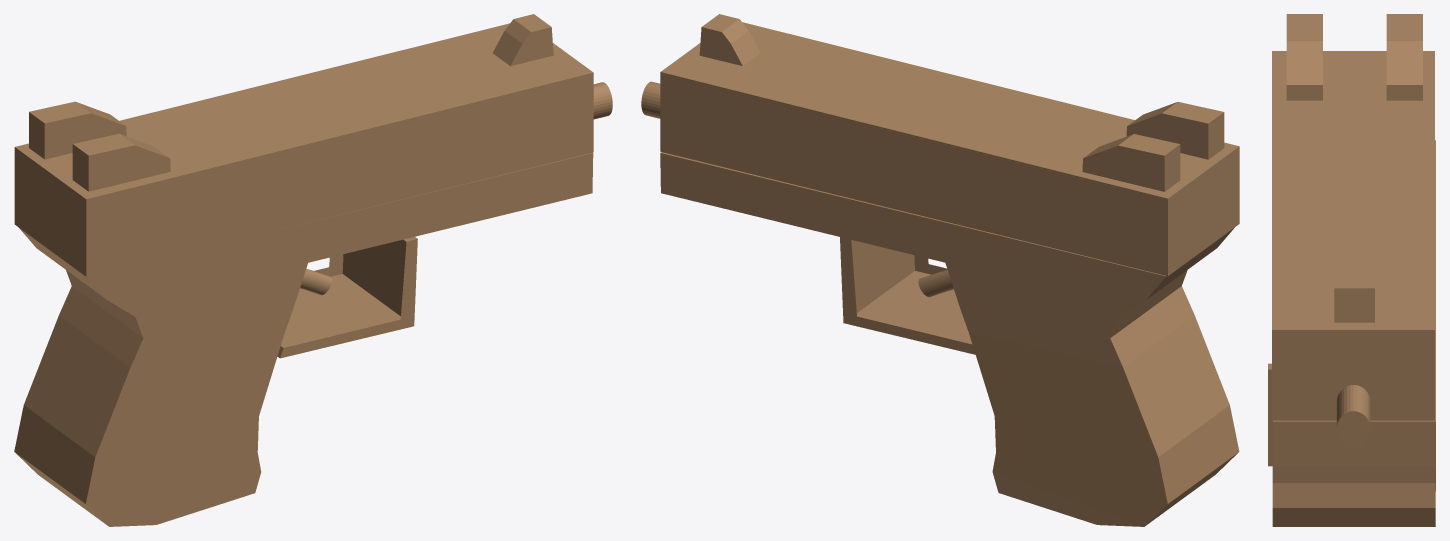
Rendered from pistolaCarton.fbx.
3 views of the same model, side by side, from view 1: azimuth 30°, elevation 25°; view 2: azimuth 150°, elevation 25°; view 3: azimuth 270°, elevation 25° (orthographic). The views are drawn at different scales.
Parts seen in each view (by area): view 1: Cube, Cube.001, Cube.002; view 2: Cube, Cube.001, Cube.002; view 3: Cube, Cube.001, Cube.002.
Part boxes in pixels (x1,y1,x2,y2): Cube: (14, 23, 612, 526); Cube.001: (29, 101, 170, 191); Cube.002: (493, 14, 553, 65); Cube: (641, 22, 1239, 526); Cube.001: (1082, 102, 1224, 191); Cube.002: (699, 14, 760, 65); Cube: (1268, 51, 1435, 526); Cube.001: (1286, 14, 1422, 100); Cube.002: (1334, 277, 1374, 322).
Bounding box in the file's own units: 607 × 397 × 140.
